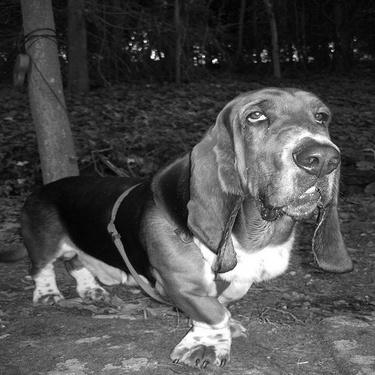dog: (18, 83, 357, 367)
